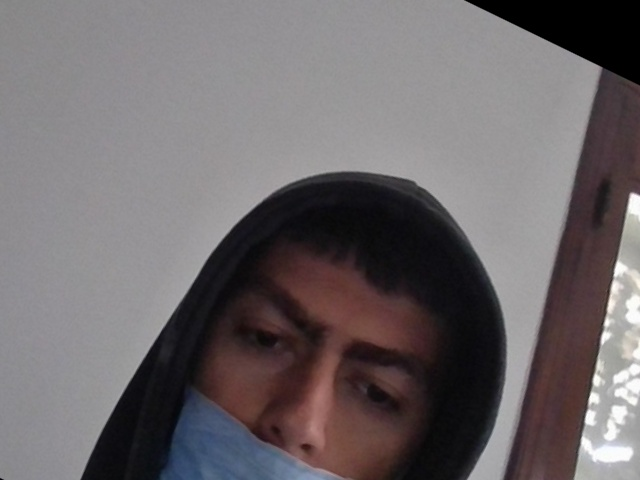mask_weared_incorrect: (162, 203, 472, 480)
